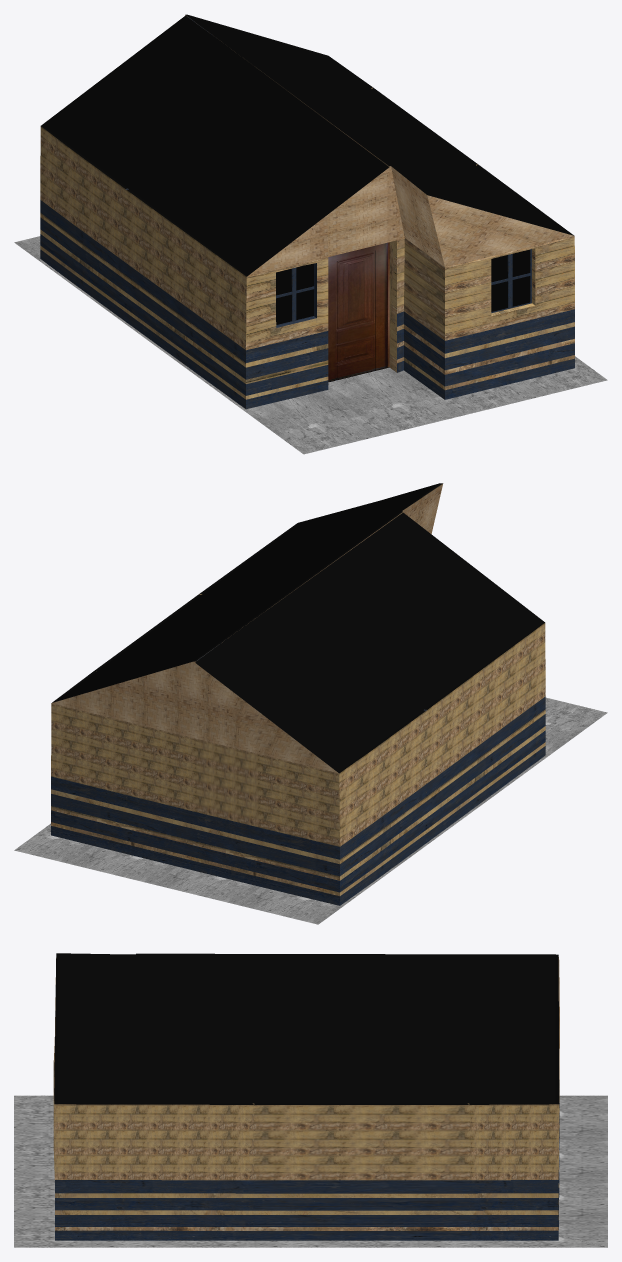
Rendered from Rumah Kades (dalam).fbx.
3 views of the same model, one above another, from view 1: azimuth 30°, elevation 25°; view 2: azimuth 150°, elevation 25°; view 3: azimuth 270°, elevation 25° (orthographic). The views are drawn at different scales.
Visible parts, largest first — view 1: Base, Plane, Base.001; view 2: Base, Plane; view 3: Base, Plane.
Part boxes in pixels (left/top/right/bottom): Base: left=40, top=14, right=574, bottom=409; Plane: left=14, top=236, right=607, bottom=454; Base.001: left=276, top=263, right=314, bottom=325; Base: left=51, top=483, right=545, bottom=905; Plane: left=14, top=697, right=607, bottom=924; Base: left=53, top=953, right=559, bottom=1240; Plane: left=14, top=1095, right=607, bottom=1247.
Size of the model in its own units: 3384 by 2225 by 5580.
14 materials, 7 textured.
